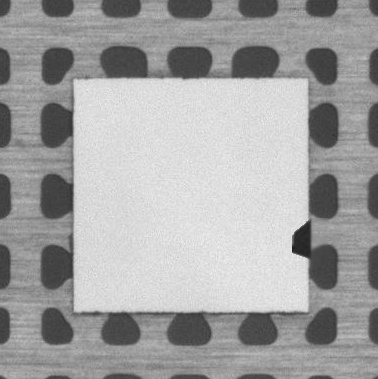DIE_BROKEN: (290, 219, 313, 263)
